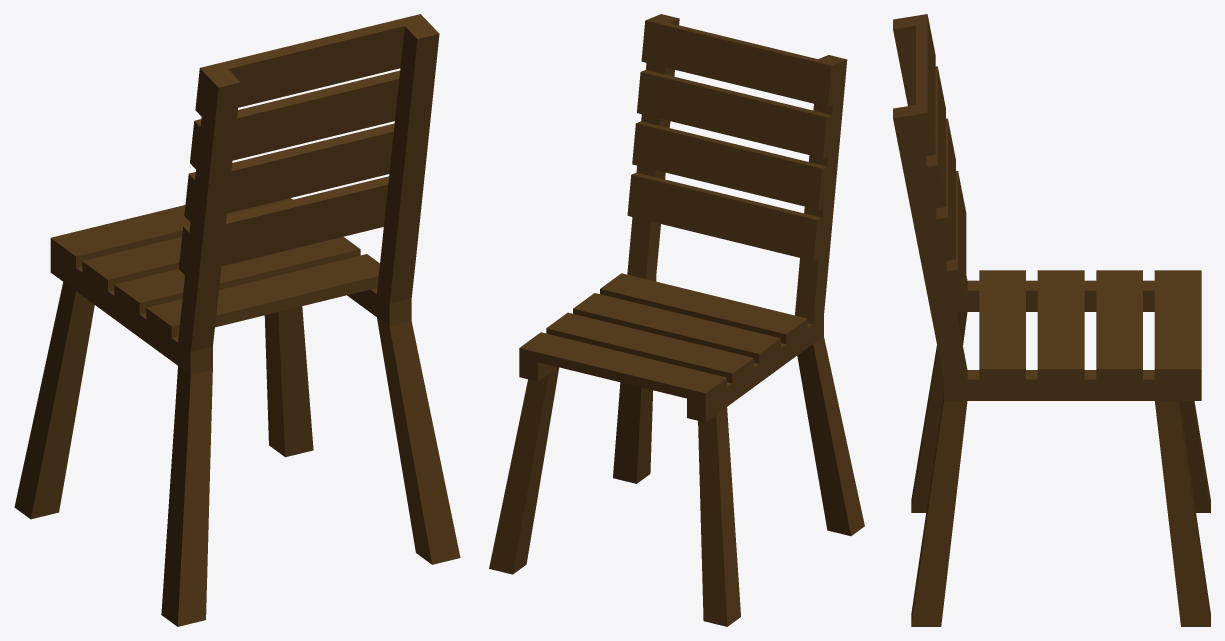
The model's file is Stoel.fbx.
3 views of the same model, side by side, from view 1: azimuth 30°, elevation 25°; view 2: azimuth 150°, elevation 25°; view 3: azimuth 270°, elevation 25° (orthographic). The views are drawn at different scales.
Visible parts, largest first — view 1: Cube; view 2: Cube; view 3: Cube.
Boxes of the visible parts, bbox=[...] form: Cube: bbox=[14, 14, 460, 626]; Cube: bbox=[489, 14, 864, 626]; Cube: bbox=[893, 14, 1210, 626].
Size of the model in its own units: 256 by 472 by 272.
